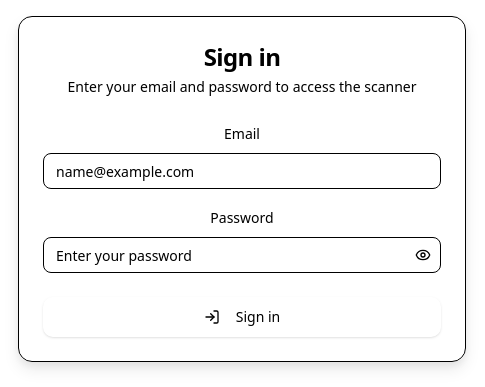
Test: LoginForm › should toggle password visibility
Note: Click to show password
Click the button named "show password". click: (423, 255)
box: left=405, top=237, right=441, bottom=273
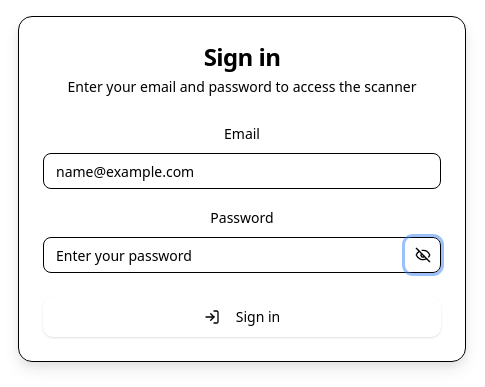
Check: the button named "hide password" is shown
Note: Click to hide password again
Click the button named "hide password". click: (423, 255)
box: left=405, top=237, right=441, bottom=273
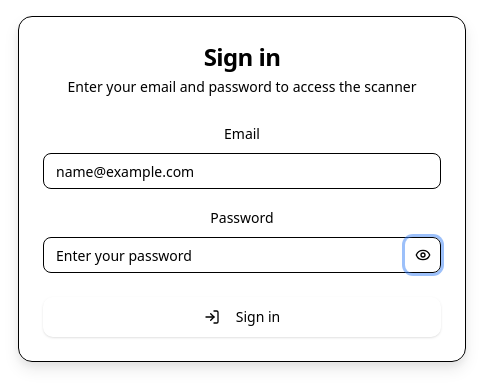
Check: the button named "show password" is shown, box left=405, top=237, right=441, bottom=273
